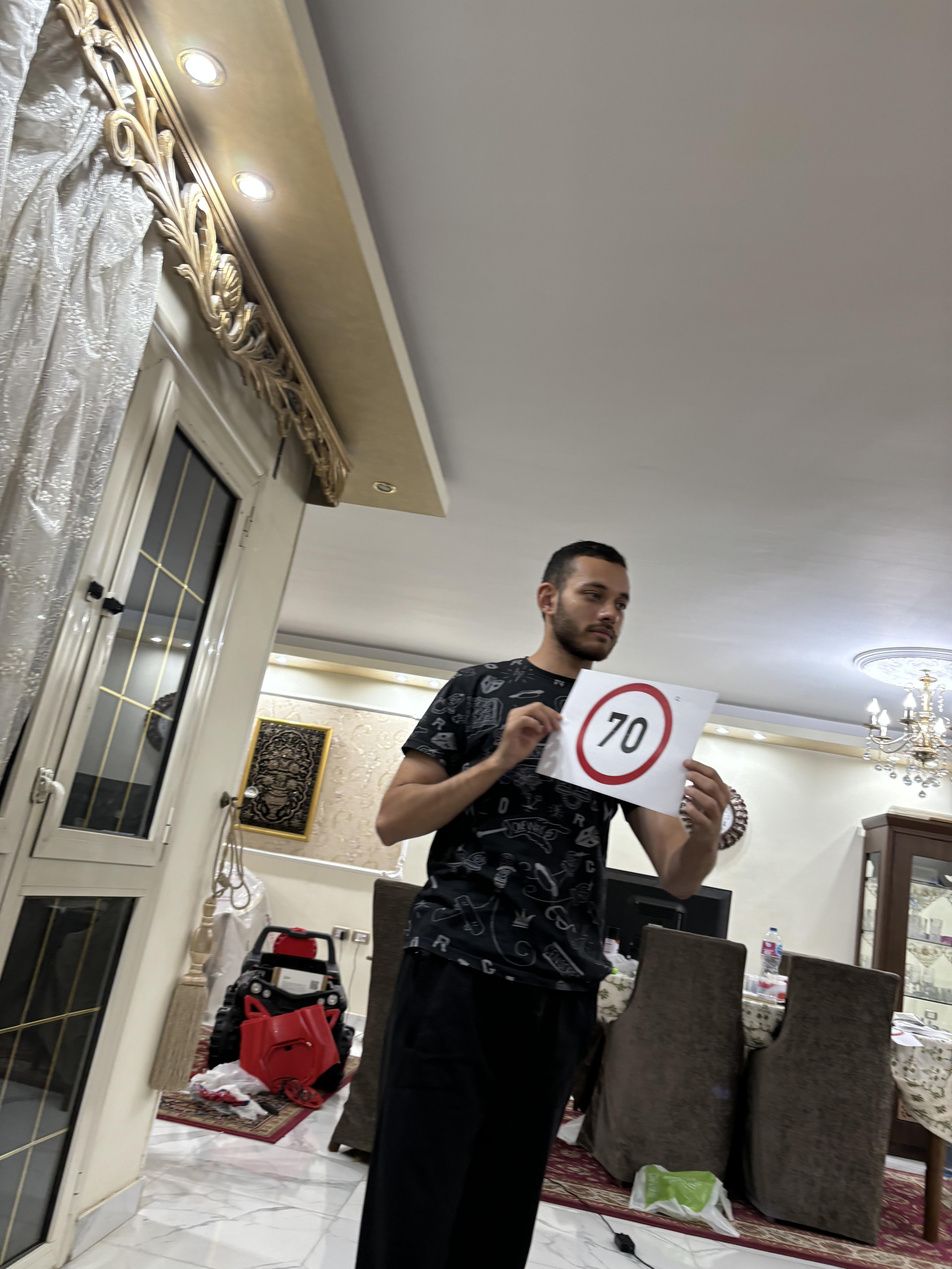70-Speed: (570, 682, 683, 790)
